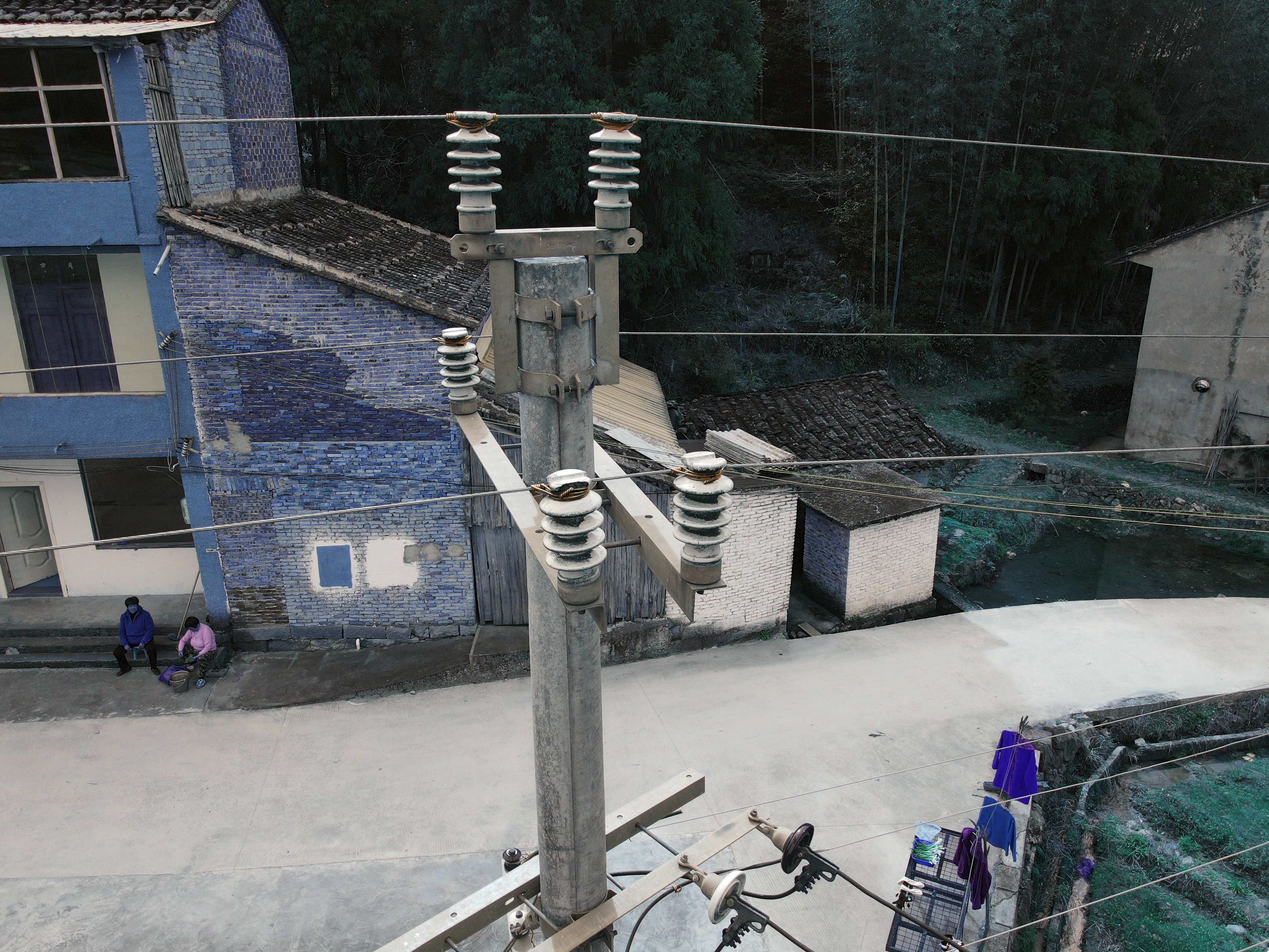severe_soiling_no_discharge_whole: (534, 467, 613, 607), (671, 448, 735, 585), (442, 108, 505, 232), (585, 111, 644, 230), (434, 324, 484, 414), (702, 869, 750, 926)
